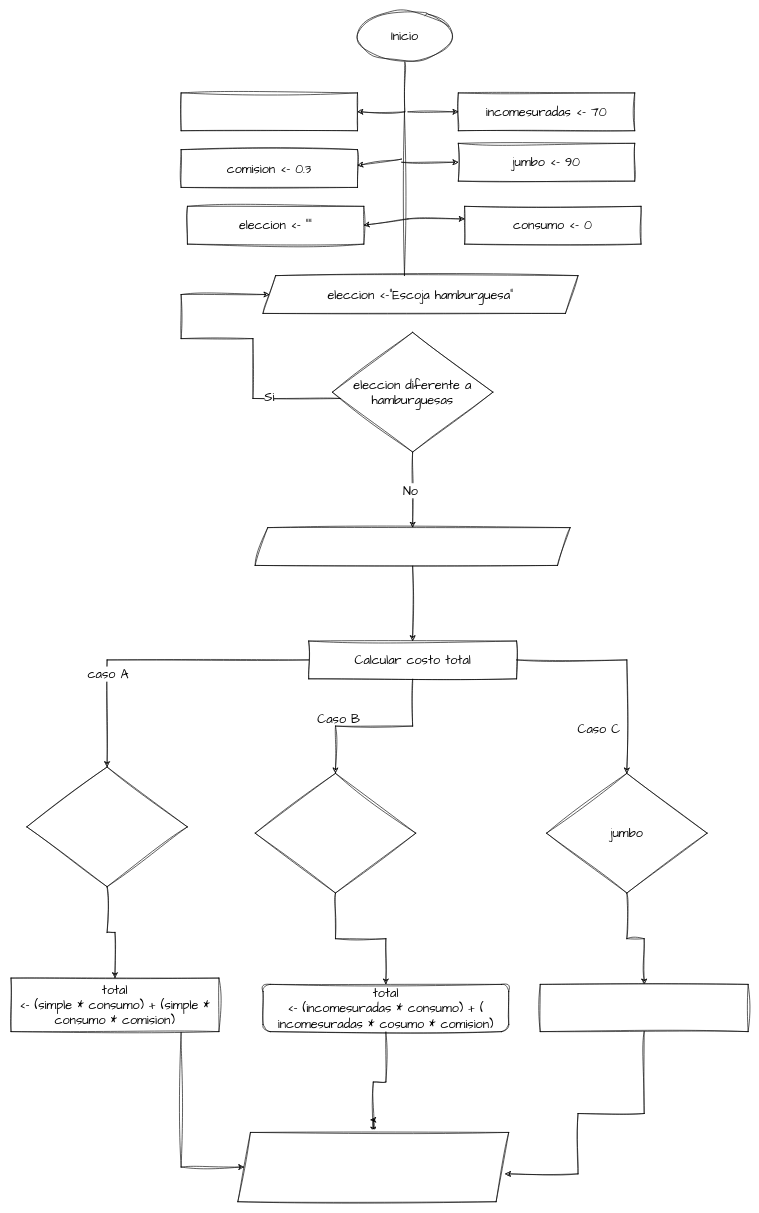
Image size: 759x1213. Some labels were removed from this diagram. The centre of each missing label's shape, as x and y in pixels:
consumo <-"Escriba hamburguesa a consumir": [412,546]
Escribir ""El total a pagar es", total: [373,1167]
incomesuradas: [335,833]
simple: [106,826]
simpre <- 50: [269,111]
total <- ( jumbo * consumo) + ( jumbo * consumo * comision): [644,1008]
